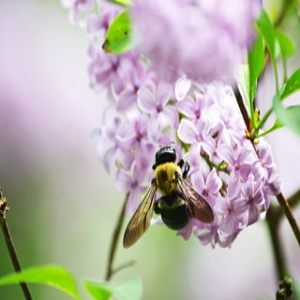bee: (121, 146, 216, 251)
